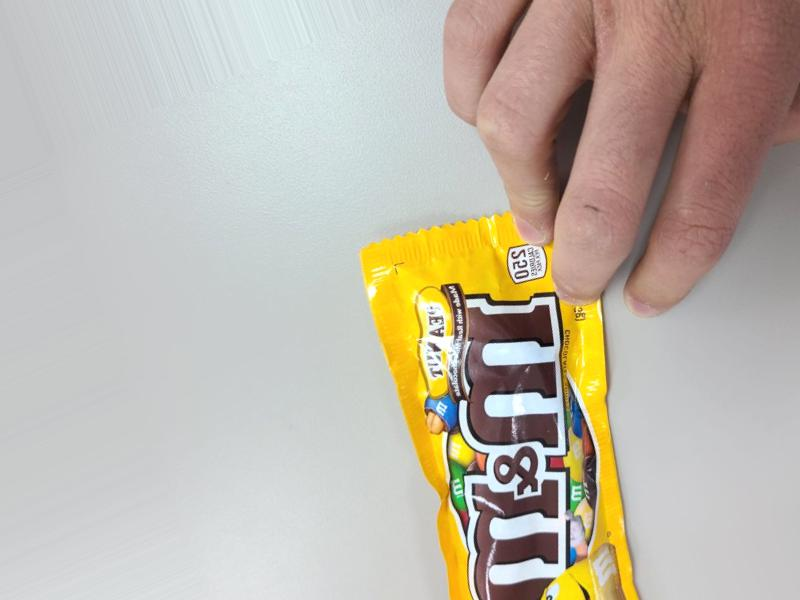m&m: (368, 219, 604, 562)
